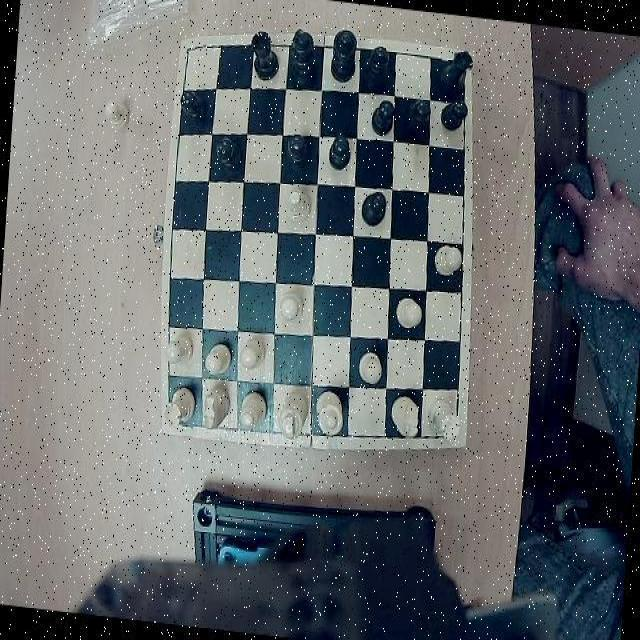chess-table-corners: (433, 414, 466, 446), (162, 406, 195, 436), (440, 51, 471, 82), (182, 32, 208, 61)
